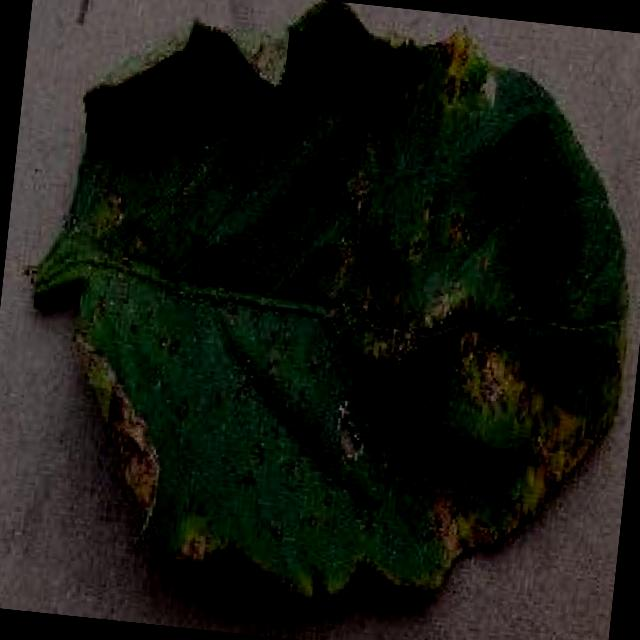bacterial spot: (33, 0, 627, 596)
